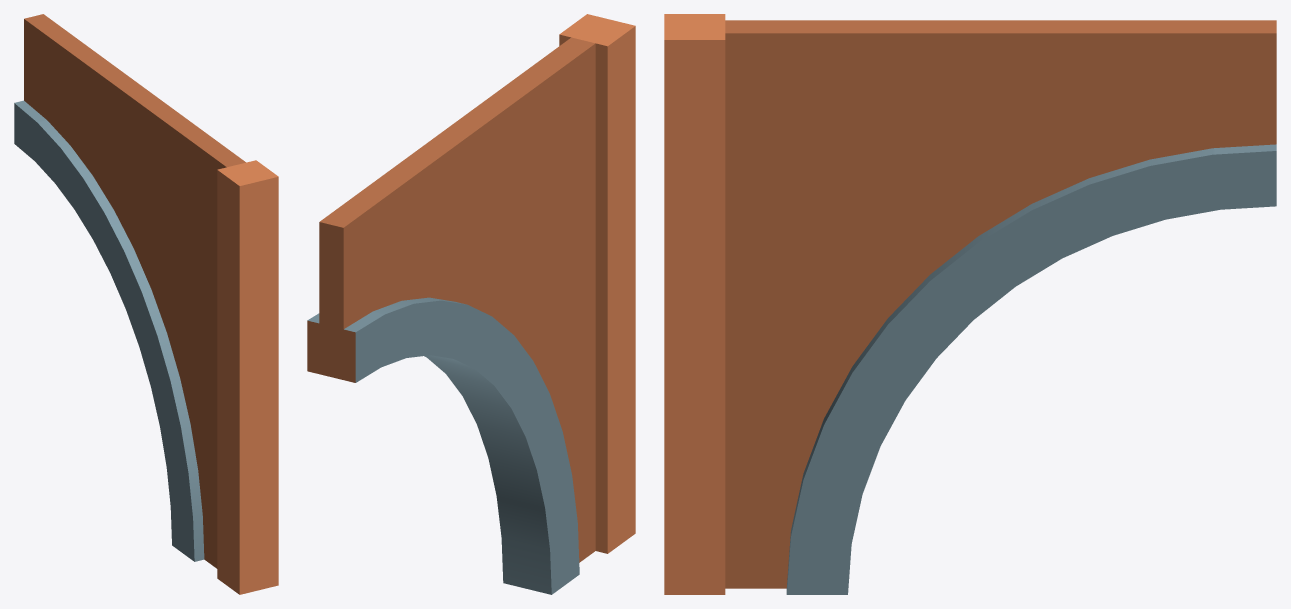
Rendered from wallWoodArchTop.fbx.
The picture shows the model from 3 angles, left to right: view 1: azimuth 30°, elevation 25°; view 2: azimuth 150°, elevation 25°; view 3: azimuth 270°, elevation 25°; orthographic projection. The views are drawn at different scales.
Parts seen in each view (by area): view 1: wallWoodArchTop; view 2: wallWoodArchTop; view 3: wallWoodArchTop.
Part boxes in pixels (x1,y1,x2,y2): wallWoodArchTop: (14, 14, 278, 594); wallWoodArchTop: (307, 14, 635, 594); wallWoodArchTop: (664, 14, 1276, 594).
Bounding box in the file's own units: 1 × 10 × 10.
